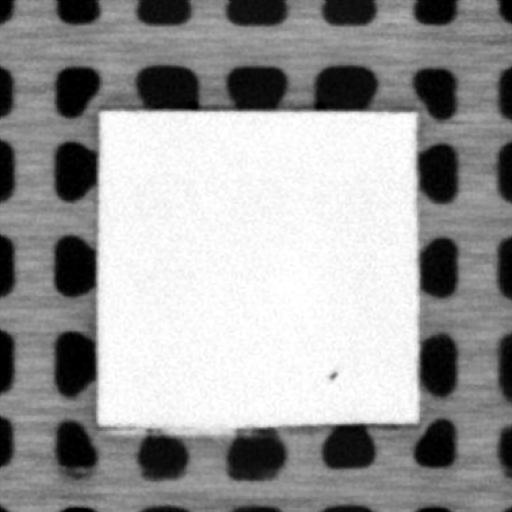DIE_INK: (325, 366, 337, 380)
